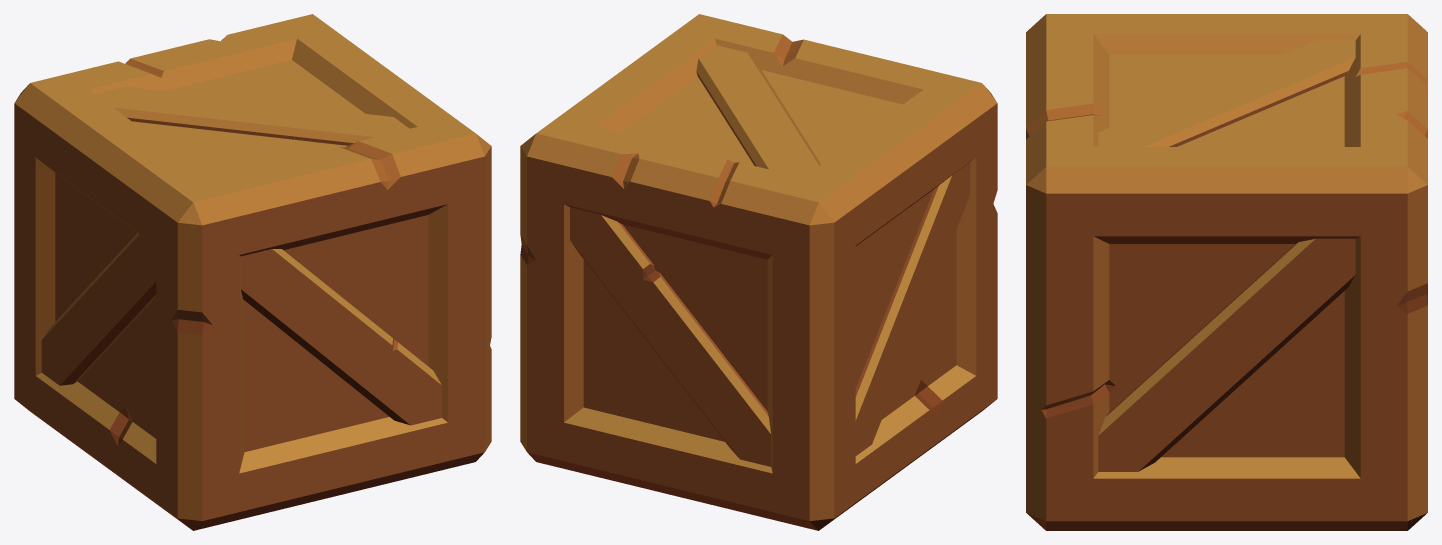
The model's file is m_deco_crateOld.FBX.
The picture shows the model from 3 angles, left to right: view 1: azimuth 30°, elevation 25°; view 2: azimuth 150°, elevation 25°; view 3: azimuth 270°, elevation 25°; orthographic projection. The views are drawn at different scales.
Visible parts, largest first — view 1: m_deco_crateOld; view 2: m_deco_crateOld; view 3: m_deco_crateOld.
Boxes of the visible parts, bbox=[...] form: m_deco_crateOld: bbox=[14, 14, 491, 530]; m_deco_crateOld: bbox=[520, 14, 997, 530]; m_deco_crateOld: bbox=[1026, 14, 1427, 530].
Size of the model in its own units: 2 by 2 by 2.
